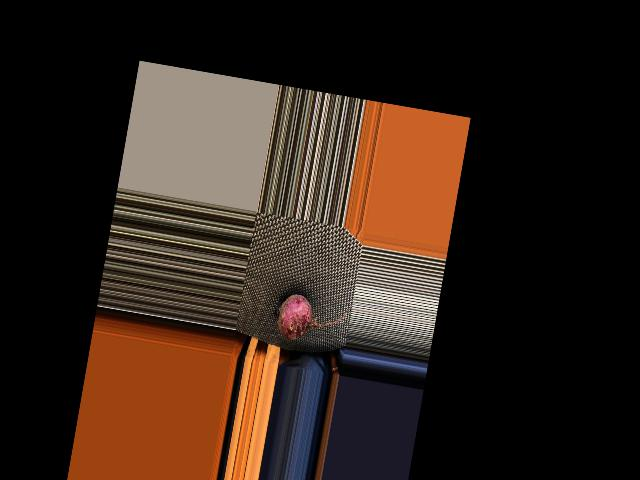beet: (268, 291, 346, 348)
